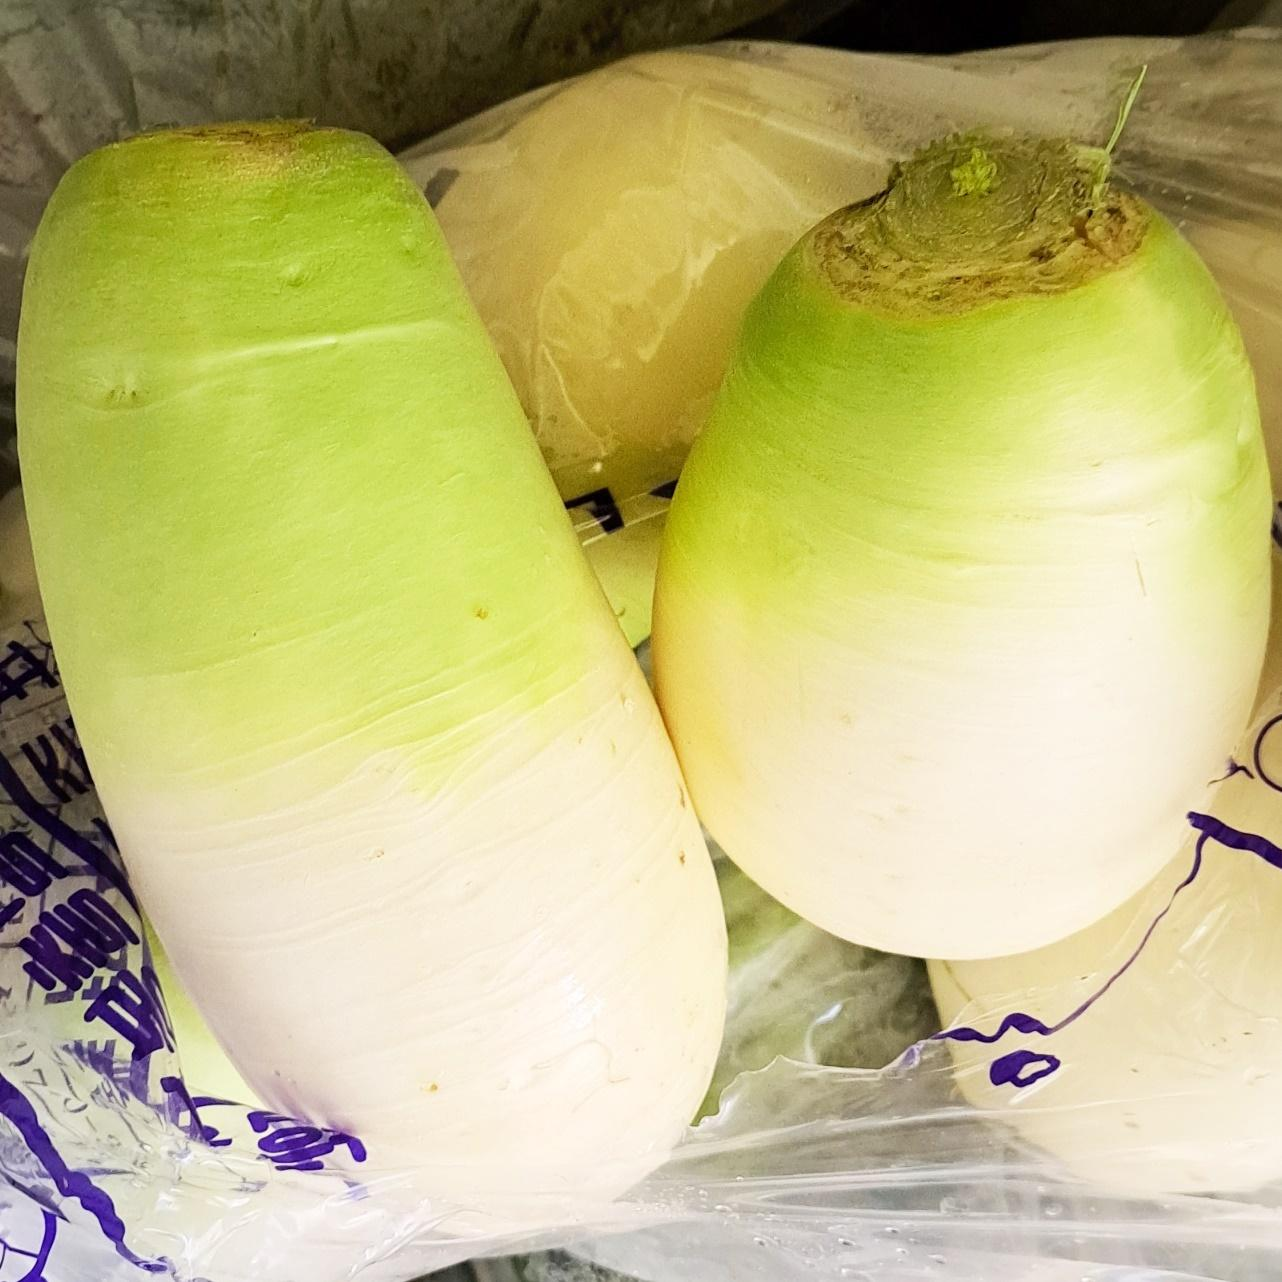radish: (198, 626, 964, 1282), (850, 495, 1282, 1282)
